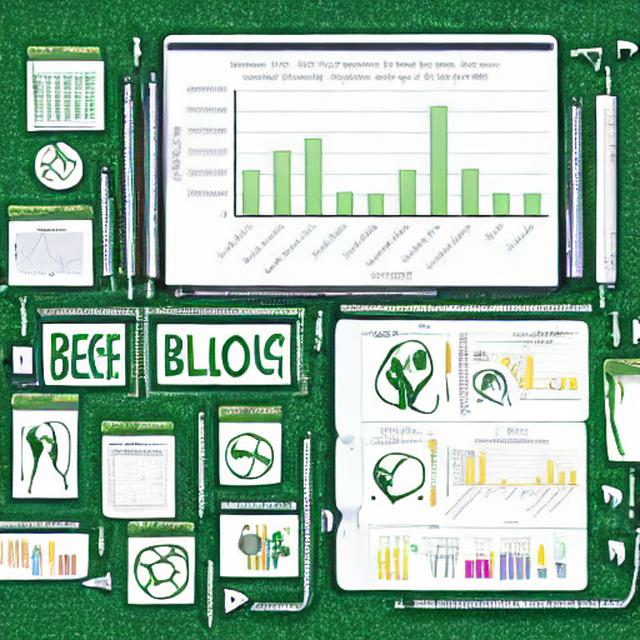Graph: (171, 55, 555, 283), (443, 437, 581, 527), (10, 221, 91, 282), (108, 476, 166, 511)
